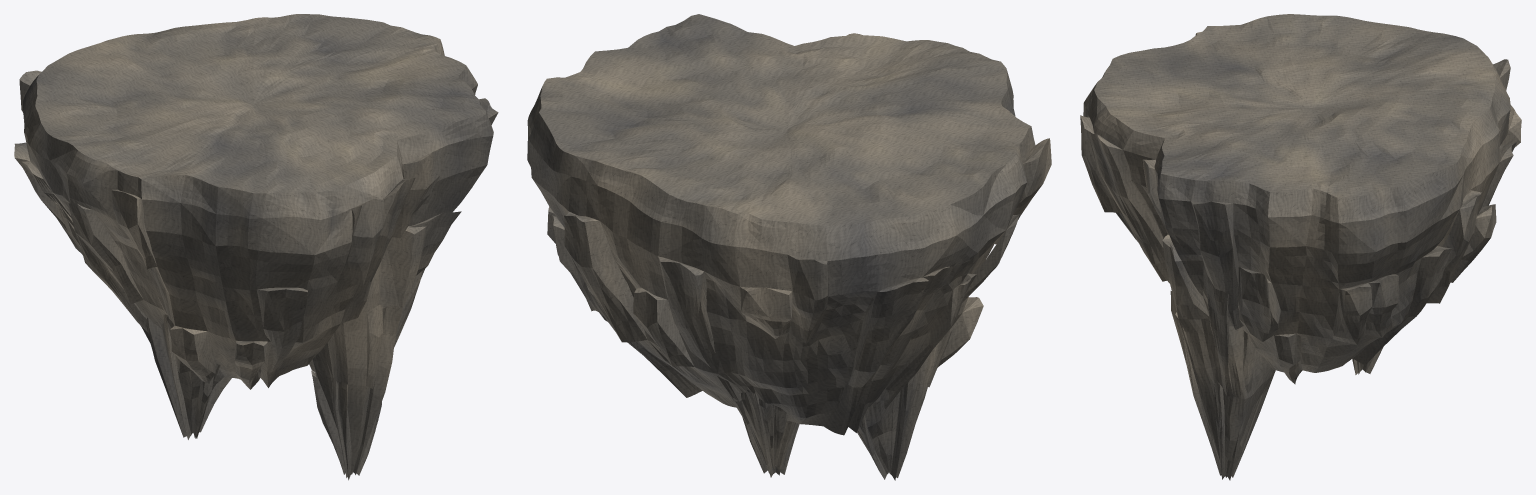
The picture shows the model from 3 angles, left to right: view 1: azimuth 30°, elevation 25°; view 2: azimuth 150°, elevation 25°; view 3: azimuth 270°, elevation 25°; orthographic projection. The views are drawn at different scales.
Parts seen in each view (by area): view 1: F04_stone; view 2: F04_stone; view 3: F04_stone.
Part boxes in pixels (left/top/right/bottom): F04_stone: left=14, top=14, right=498, bottom=480; F04_stone: left=527, top=14, right=1051, bottom=480; F04_stone: left=1080, top=14, right=1521, bottom=480.
Size of the model in its own units: 26.25 by 22.78 by 25.64.
1 material, 1 textured.
